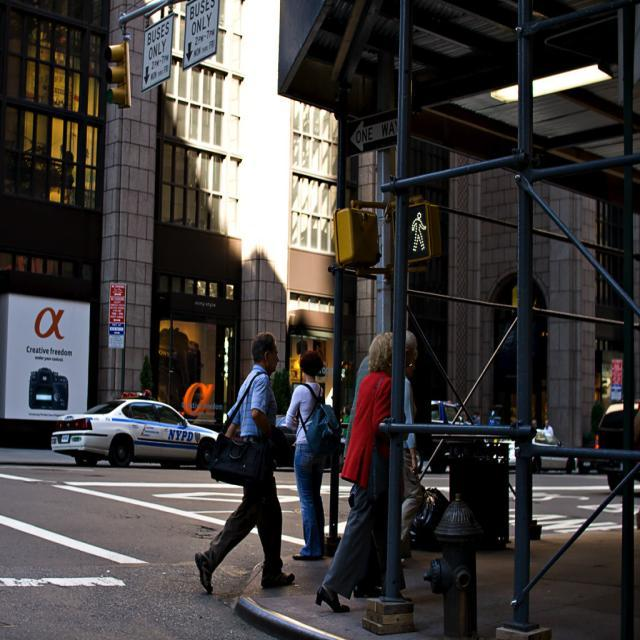off traffic light: (104, 40, 130, 109)
